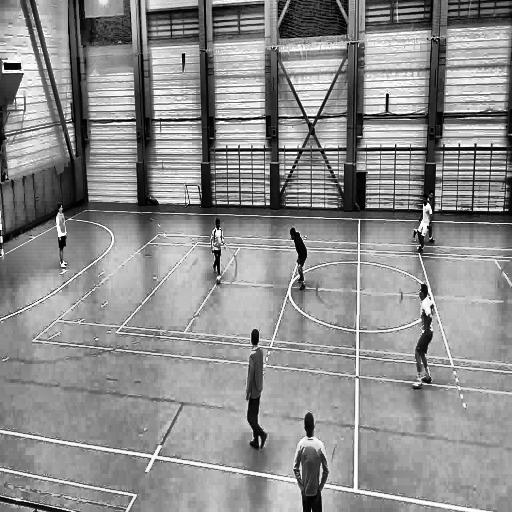ball: (214, 274, 222, 286)
player: (292, 412, 329, 512), (245, 329, 268, 454), (411, 282, 435, 390), (290, 227, 308, 294), (414, 190, 436, 244), (54, 203, 71, 271), (210, 218, 226, 278), (418, 196, 432, 256)
